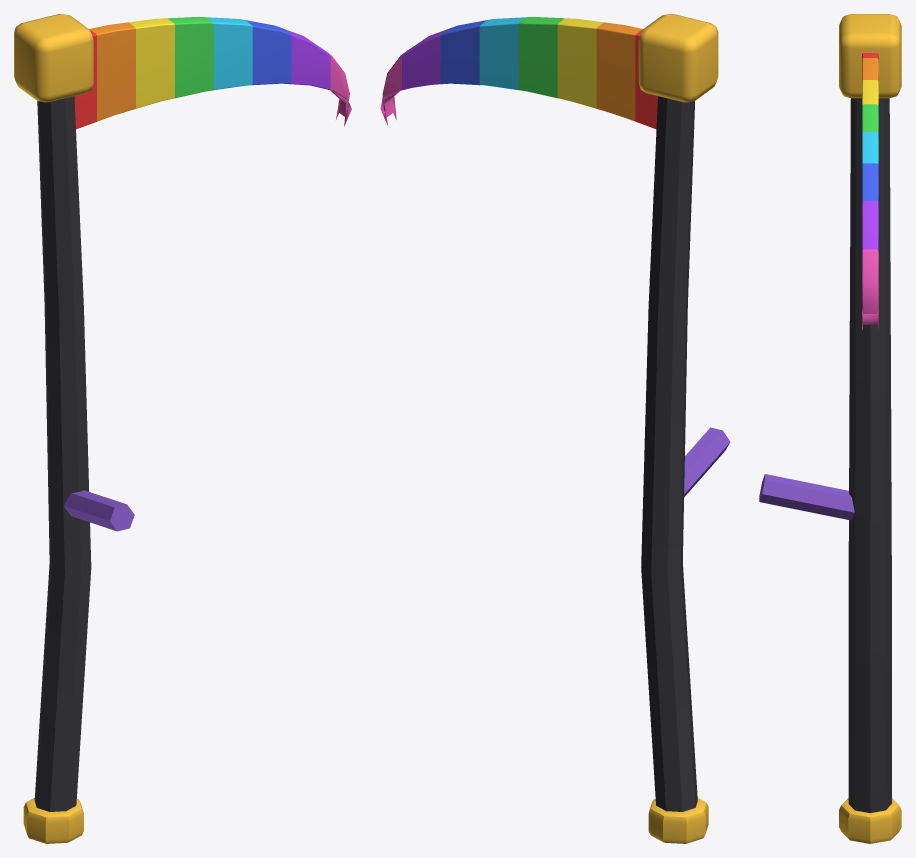
File: RainbowScythe.fbx
3 renders of one model, left to right at view 1: azimuth 30°, elevation 25°; view 2: azimuth 150°, elevation 25°; view 3: azimuth 270°, elevation 25°, orthographic.
Visible parts, largest first — view 1: RainbowScythe; view 2: RainbowScythe; view 3: RainbowScythe.
Part boxes in pixels (x1=…): RainbowScythe: x1=14, y1=14, x2=351, y2=843; RainbowScythe: x1=380, y1=14, x2=730, y2=843; RainbowScythe: x1=759, y1=14, x2=901, y2=843.
Bounding box in the file's own units: 1.56 × 3.72 × 0.5913.
Materials: 1 (1 with a texture image).
